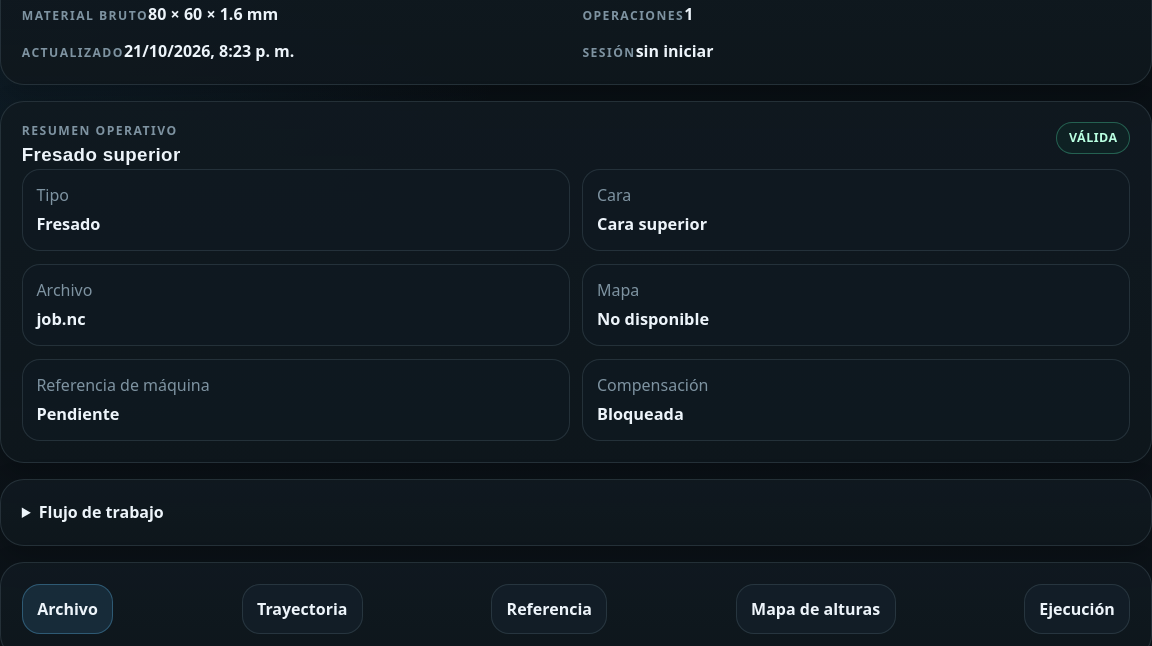
Test: ProjectWorkspace › bloquea movimiento si el modo no está confirmado: missing
Click the button "Referencia" at (549, 609), box x1=491 y1=584 x2=607 y2=634
(page scrolled)
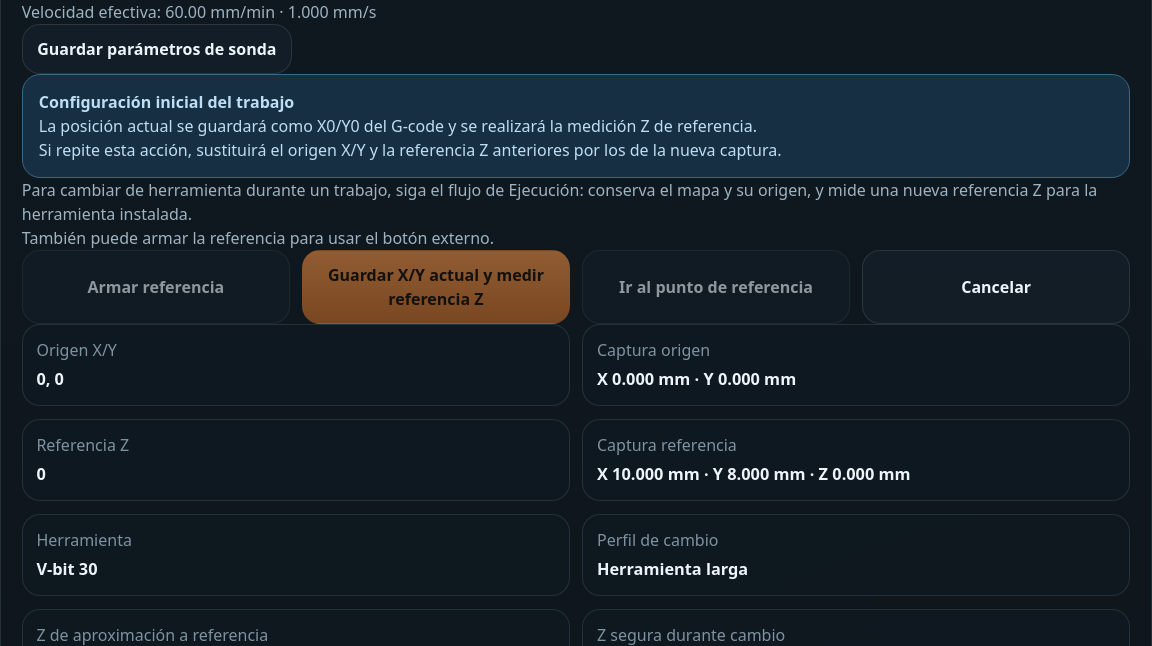
Now the button "Guardar X/Y actual y medir referencia Z" is disabled, box x1=302 y1=250 x2=570 y2=324
Now the button "Ir al punto de referencia" is disabled, box x1=582 y1=250 x2=850 y2=324
